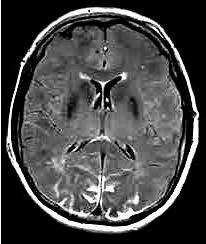Normal_Brain: (6, 2, 206, 244)
